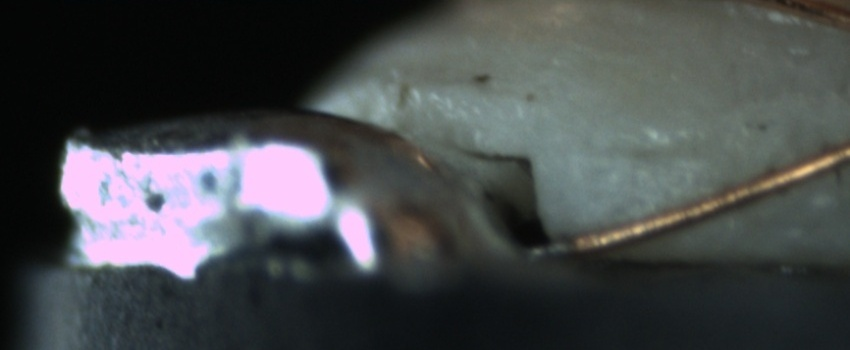DL: (571, 119, 716, 186)
